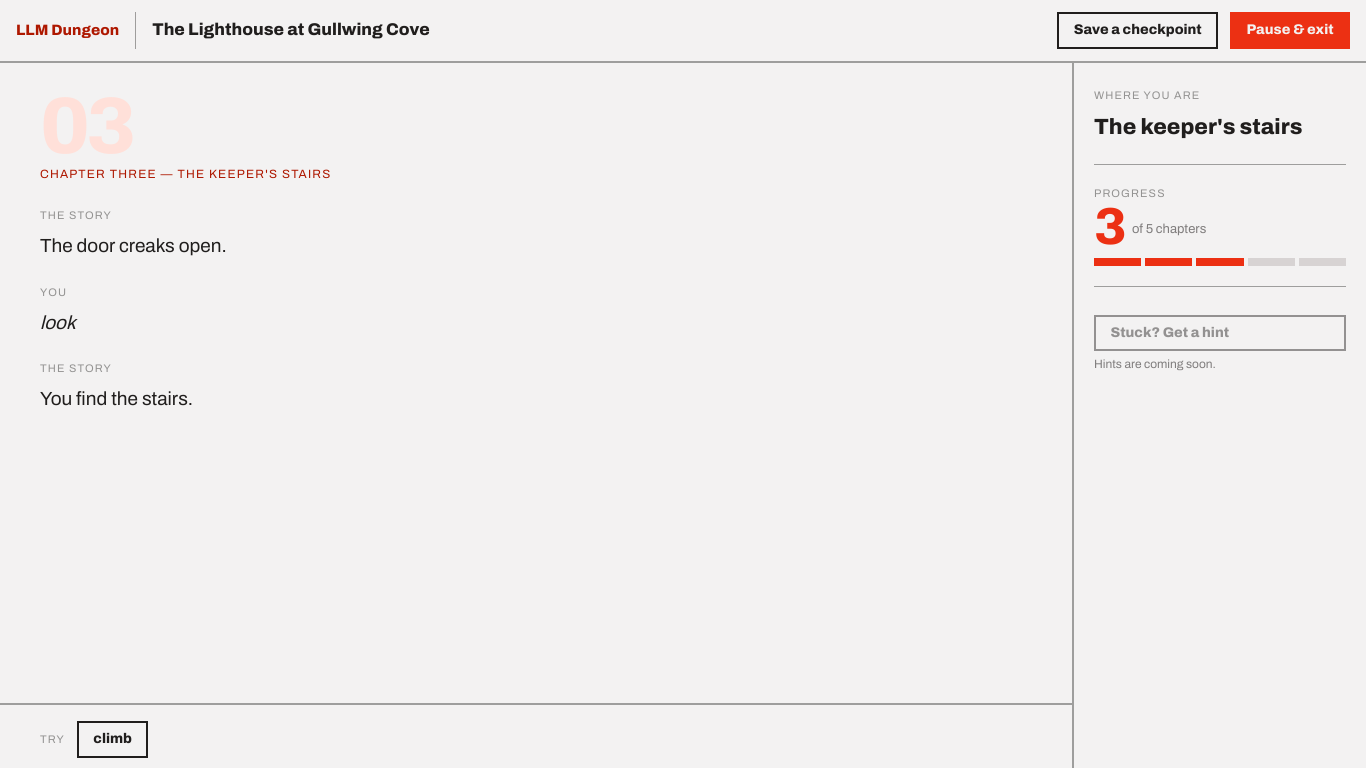
Test: Pause and exit lands the player on Home (#346) › goes to Home when the exit checkpoint saves, with no failure notice
The width and height of the screenshot is (1366, 768).
Expected: the text "You find the stairs." is shown, [40,388,193,409]
What coordinates should you click on to do the following:
click the button "Pause & exit"
I would click on:
 (1290, 30)
Its box is [1230,12,1350,49].
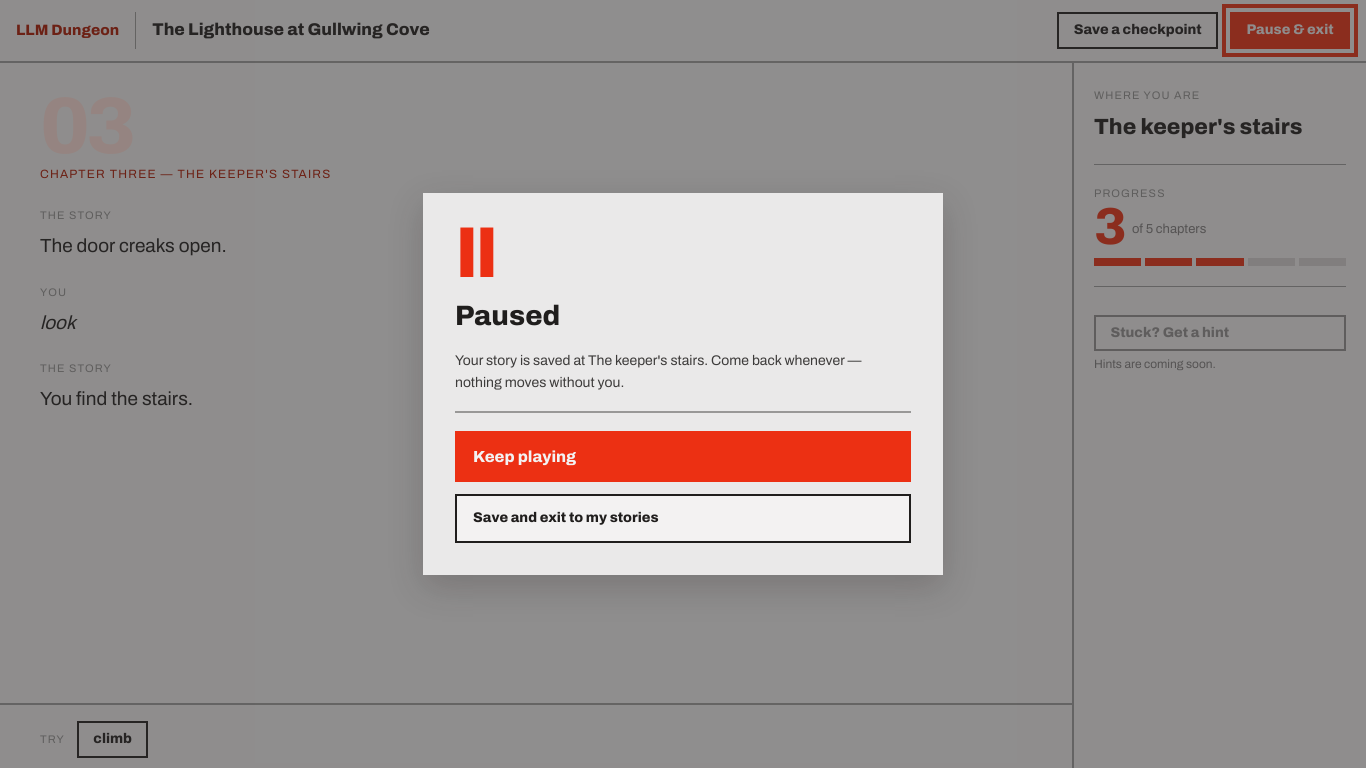
What coordinates should you click on to do the following:
click the button "Save and exit to my stories"
I would click on:
 (566, 518)
Its box is [455,494,911,543].
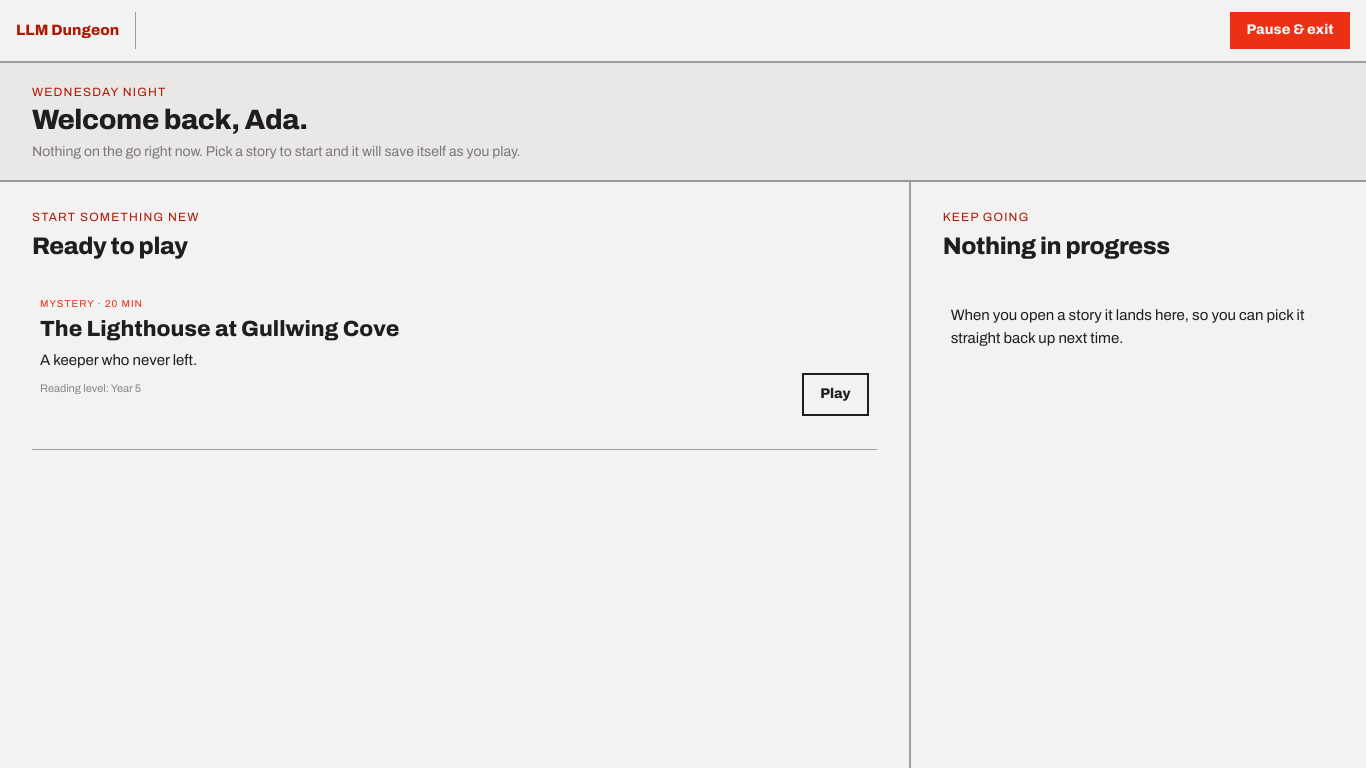
Now the heading "Ready to play" is shown, box [32,233,188,259]
